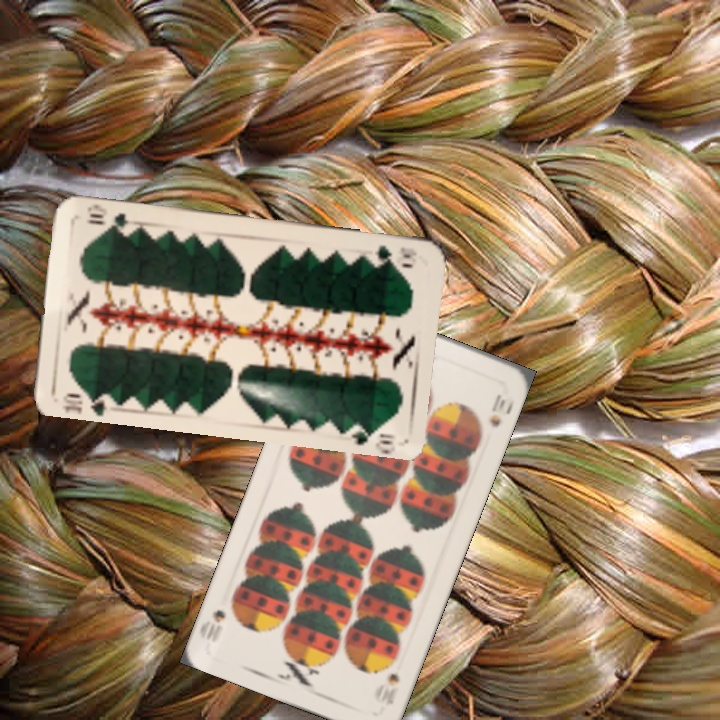G10: (58, 387, 113, 417), (372, 241, 419, 265)
S10: (381, 669, 402, 709)
